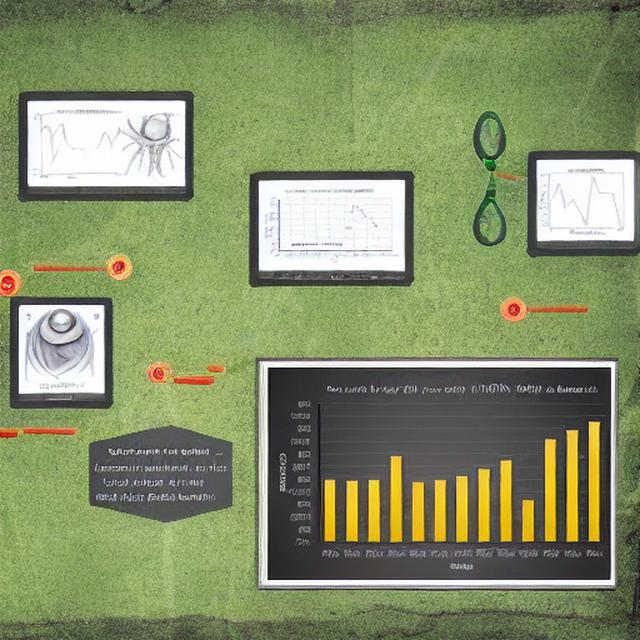Graph: (271, 376, 611, 580), (260, 185, 400, 268), (537, 164, 633, 236)
